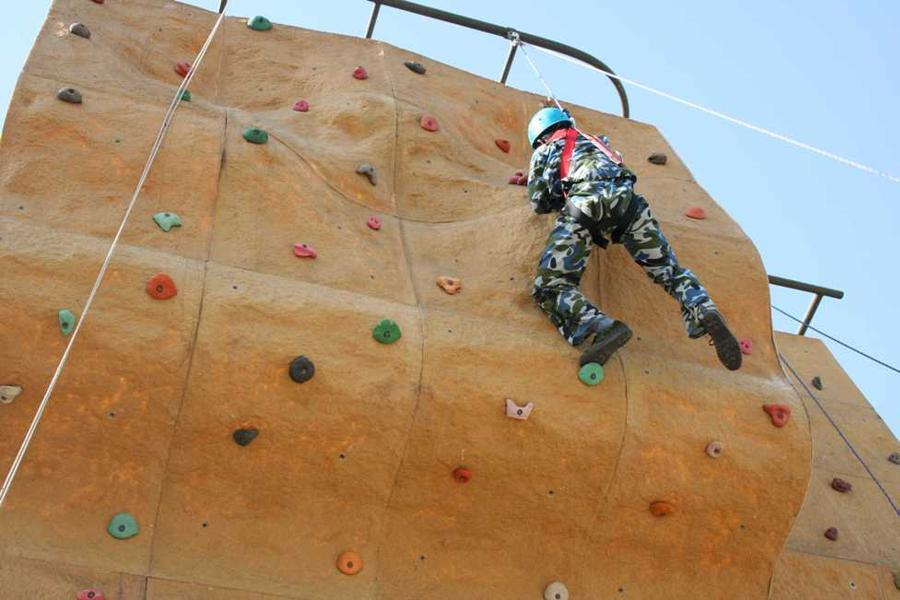person: (512, 107, 744, 373)
